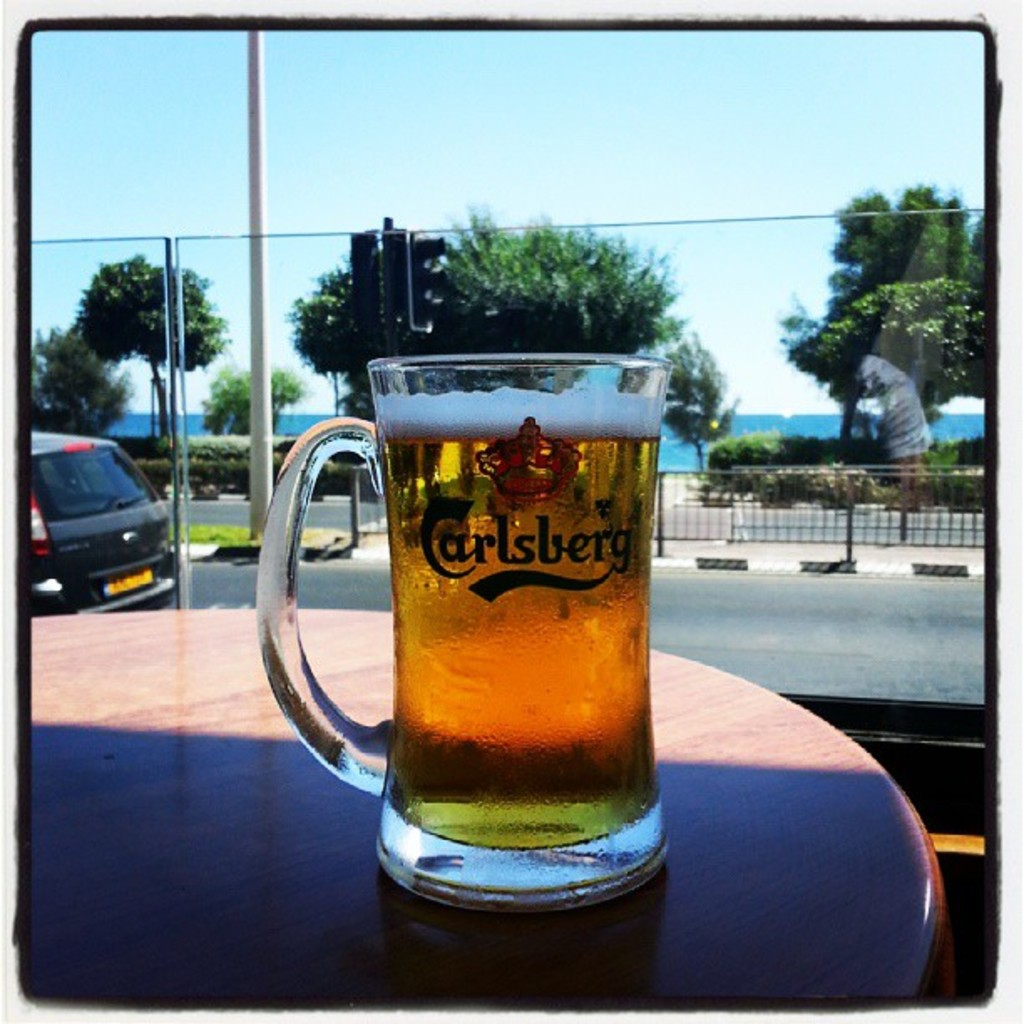Beer: (371, 383, 662, 851)
